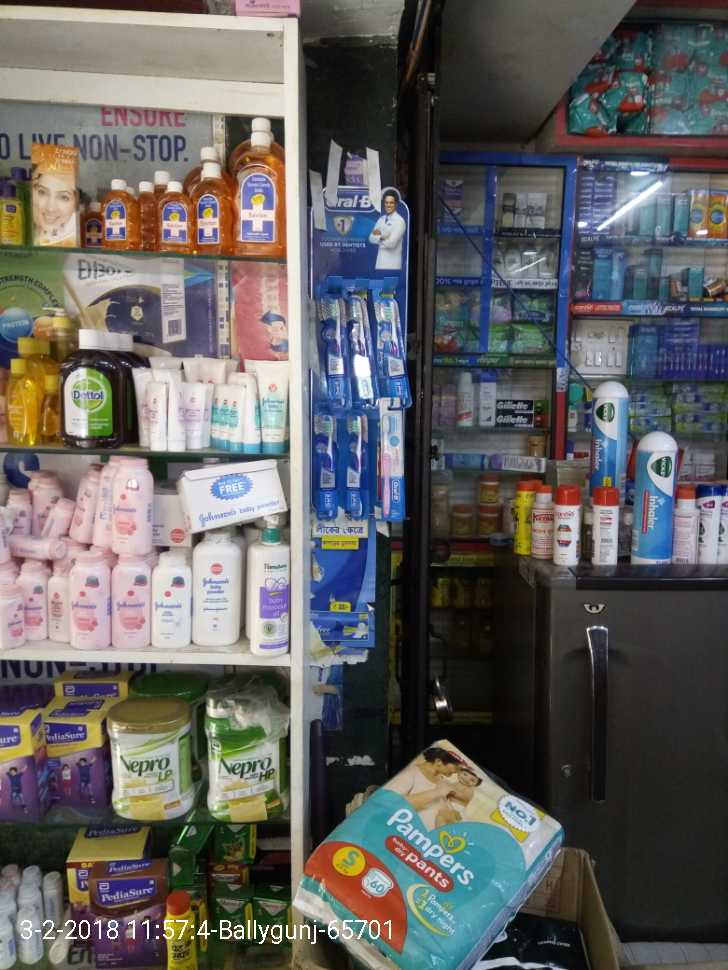pharmacy: (296, 725, 565, 970), (320, 291, 413, 403), (311, 415, 410, 514), (631, 425, 675, 569)
